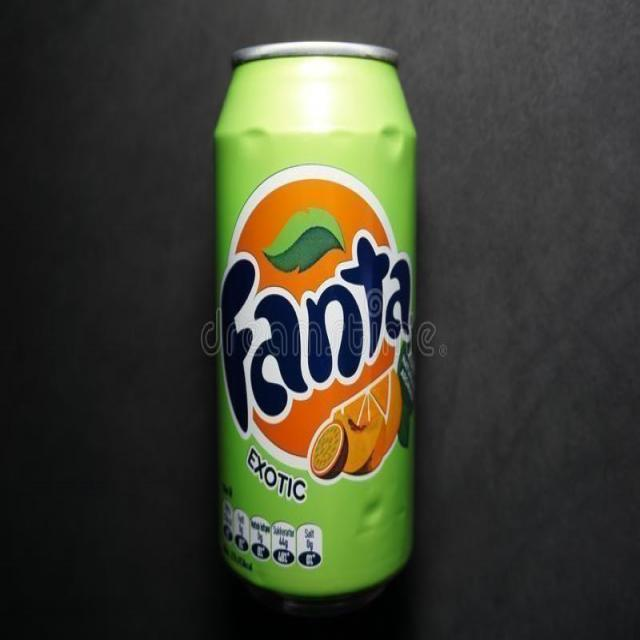tin can: (206, 28, 420, 612)
